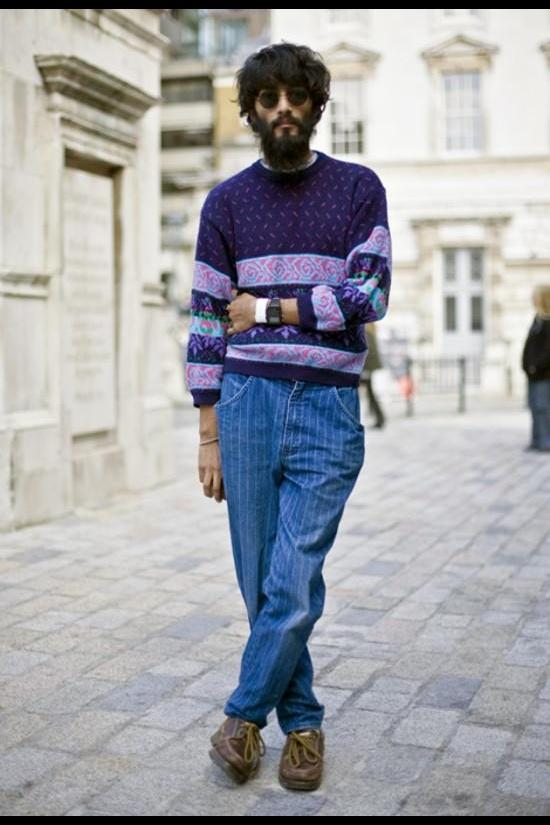pants: (215, 361, 364, 736)
sweater: (185, 154, 392, 406)
